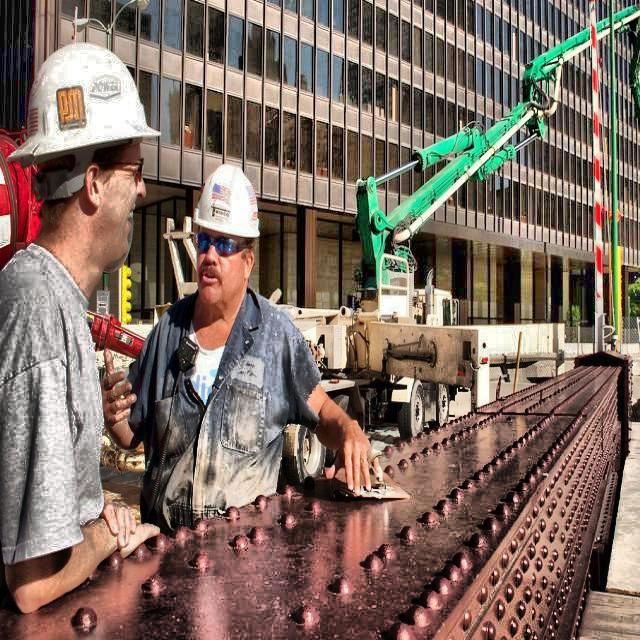person: (0, 31, 157, 569), (150, 168, 308, 492)
